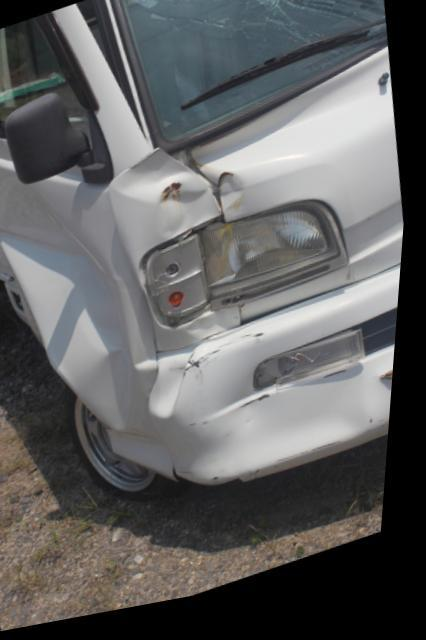crack: (180, 463, 188, 490), (388, 387, 400, 396)
dent: (5, 192, 141, 438), (198, 378, 380, 490), (116, 157, 225, 246), (156, 353, 200, 423), (190, 316, 246, 350), (220, 181, 246, 222)
glass shatter: (120, 0, 389, 150)
lamp broken: (151, 216, 339, 329), (259, 343, 372, 400)
scratch: (189, 341, 269, 385)
